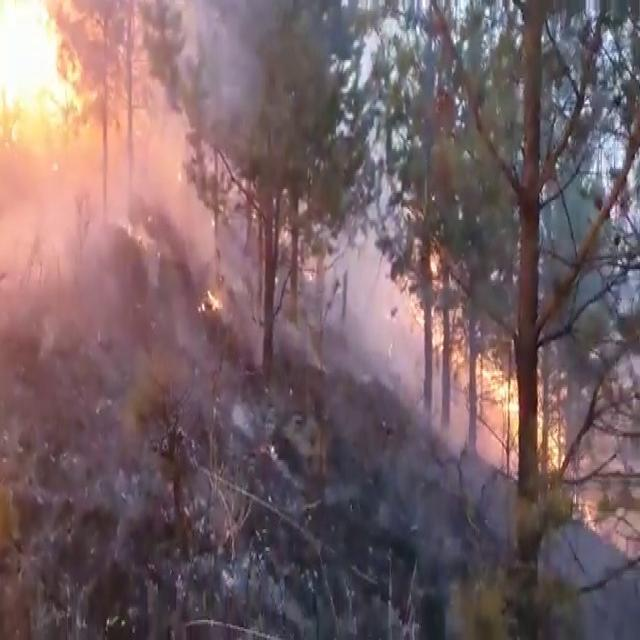Smoke: (0, 129, 252, 471), (324, 218, 442, 438)
